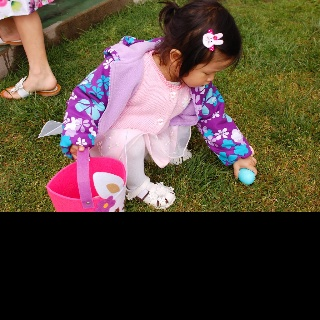without_mask: (180, 54, 235, 89)
